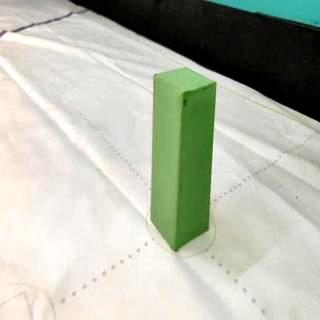greenbox: (151, 67, 217, 256)
